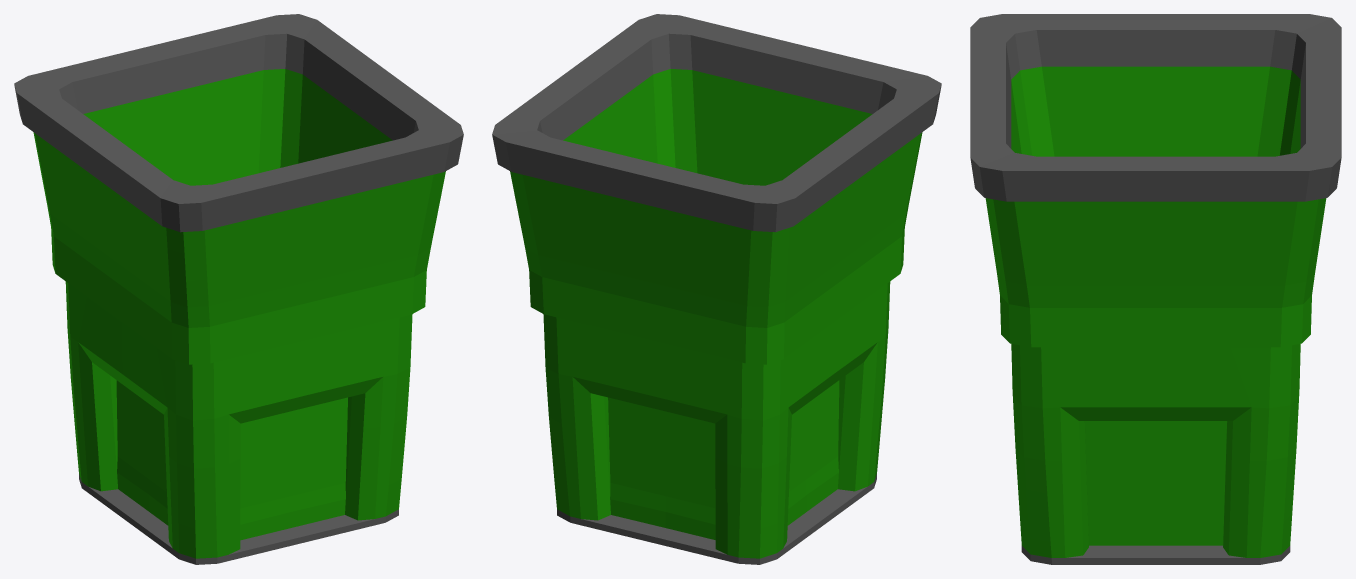
Rendered from Trash_Bin_Interacted.fbx.
3 views of the same model, side by side, from view 1: azimuth 30°, elevation 25°; view 2: azimuth 150°, elevation 25°; view 3: azimuth 270°, elevation 25° (orthographic). The views are drawn at different scales.
Visible parts, largest first — view 1: Cube; view 2: Cube; view 3: Cube.
Part boxes in pixels (<box>): Cube: <box>14,14,463,564</box>; Cube: <box>492,14,941,564</box>; Cube: <box>970,14,1341,564</box>.
Bounding box in the file's own units: 221 × 273 × 221.
